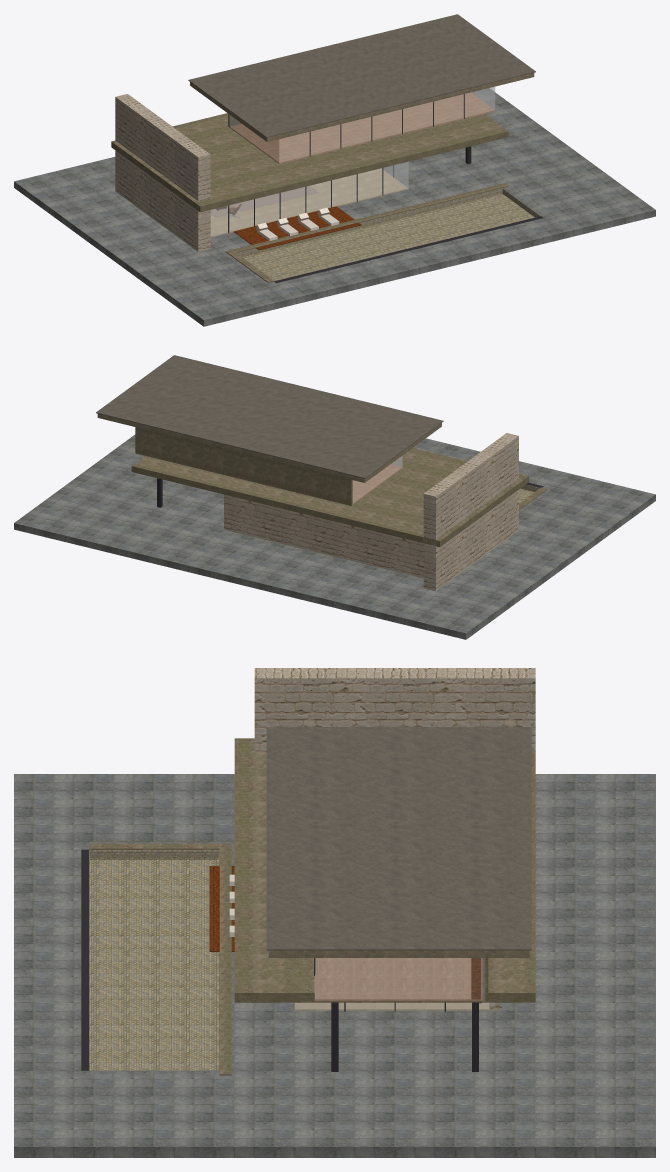
File: casa_lumen.glb
3 views of the same model, one above another, from view 1: azimuth 30°, elevation 25°; view 2: azimuth 150°, elevation 25°; view 3: azimuth 270°, elevation 25° (orthographic). The views are drawn at different scales.
Parts seen in each view (by area): view 1: Arch, box.015; view 2: Arch, box.015; view 3: Arch, box.015.
Part boxes in pixels (x1,y1,x2,y2): Arch: [14, 14, 655, 326]; box.015: [211, 86, 494, 236]; Arch: [14, 355, 655, 639]; box.015: [352, 455, 402, 504]; Arch: [14, 668, 655, 1157]; box.015: [295, 958, 494, 1010].
Size of what is drawn, in the model's own units: 44 by 9.42 by 32.
Materials: 26 (26 with a texture image).
